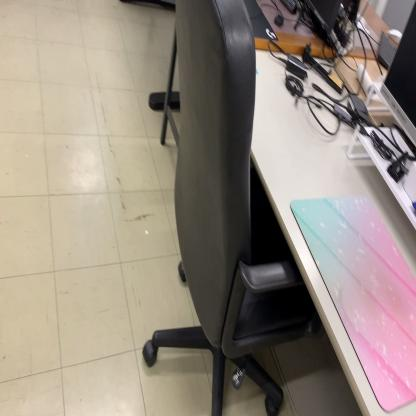chair: (140, 2, 318, 416)
